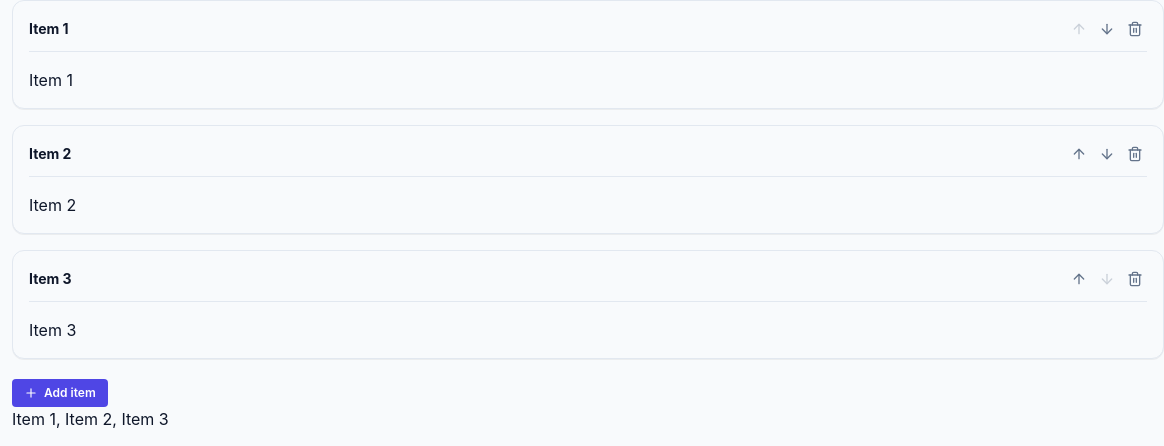
Test case: RepeatableList › disables Move up on first item and Move down on last item, and reorders items correctly
Expected: the button titled "Move up" is disabled, x1=1067 y1=17 x2=1091 y2=41
Expected: the button titled "Move up" is enabled, x1=1067 y1=142 x2=1091 y2=166
Note: Click Move down on Item 1
What coordinates should you click on to do the following:
click the button titled "Move down"
I would click on:
 (1107, 29)
Its box is x1=1095 y1=17 x2=1119 y2=41.
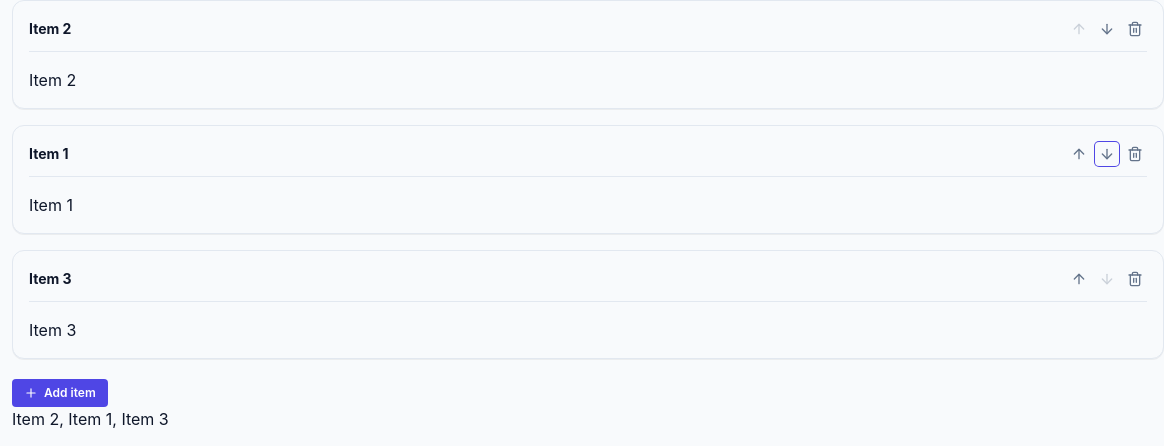
Result: the text with test id "preview-order" reads "Item 2, Item 1, Item 3" at x1=12 y1=409 x2=169 y2=429
Note: Click Move up on Item 3
What coordinates should you click on to do the following:
click the button titled "Move up"
I would click on:
 (1079, 279)
Its box is x1=1067 y1=267 x2=1091 y2=291.
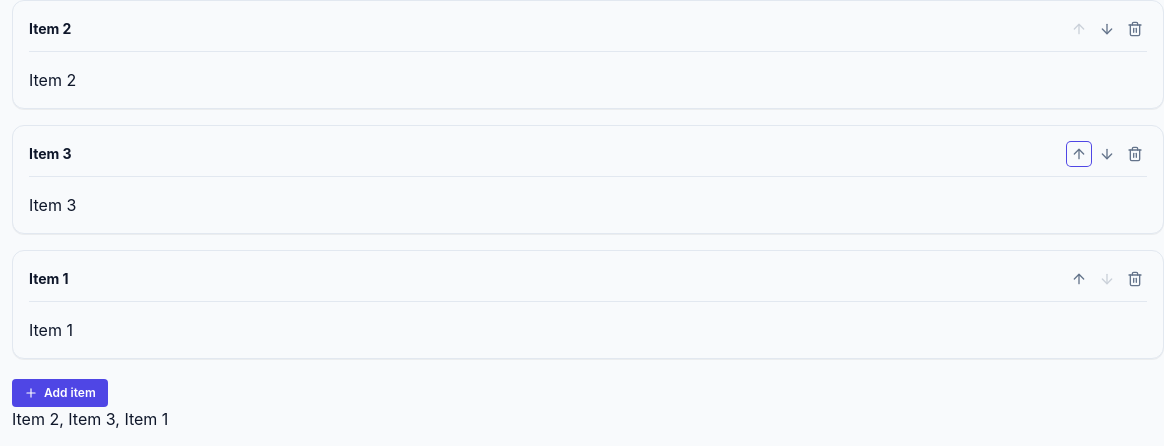
Result: the text with test id "preview-order" reads "Item 2, Item 3, Item 1" at x1=12 y1=409 x2=168 y2=429
